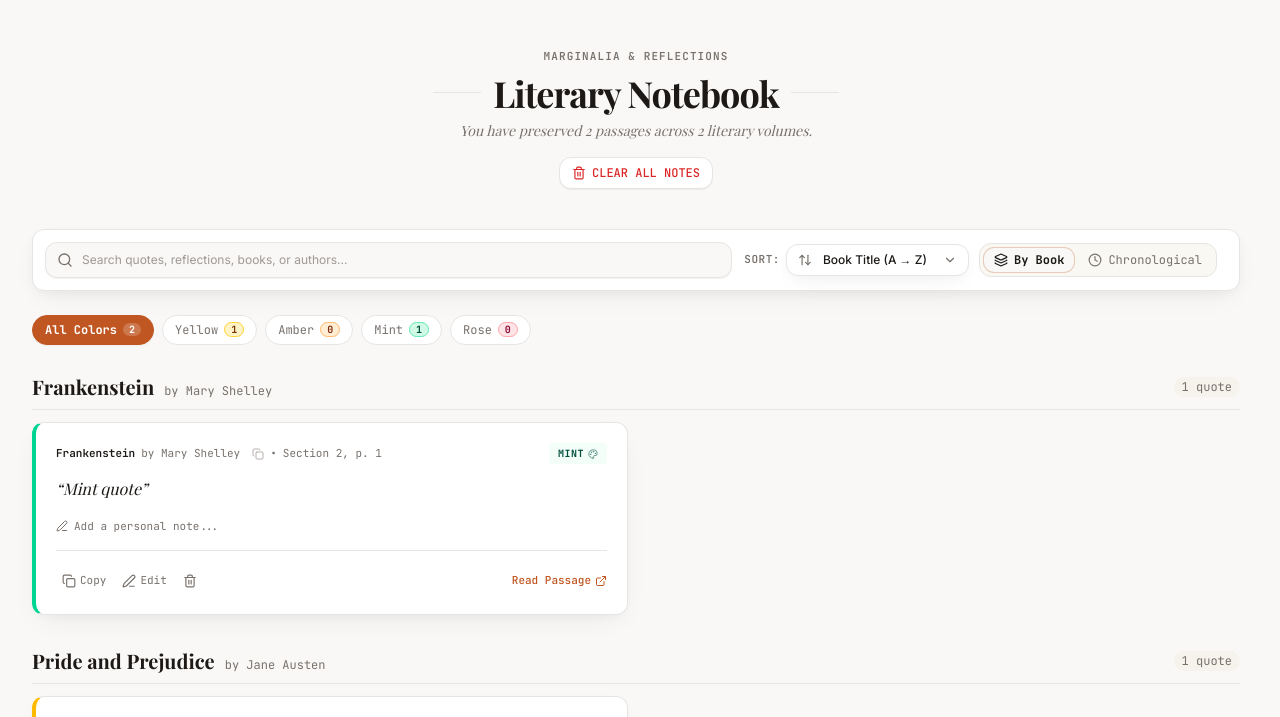
Test: NotebookView component › filters annotations by pastel color tabs
This screenshot has width=1280, height=717.
Note: Click Mint filter
What coordinates should you click on to do the following:
click the button with test id "notebook-filter-mint"
I would click on:
 (402, 330)
Its box is [361,314,442,344].
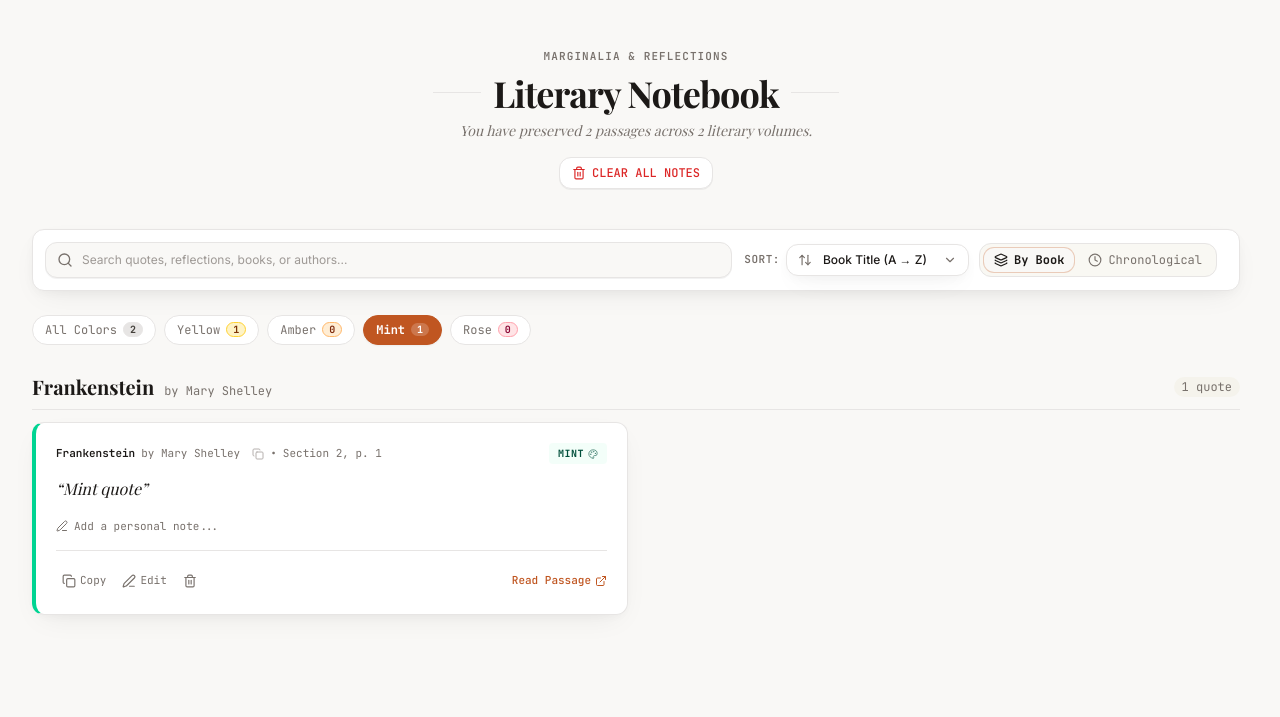
Expected: the text "“Mint quote”" is shown, [56,478,148,498]
Expected: the text "Yellow quote" is not shown
Note: Click All filter
What coordinates should you click on to do the following:
click the button with test id "notebook-filter-all"
I would click on:
 (94, 330)
Its box is [32,314,156,344].
(page scrolled)
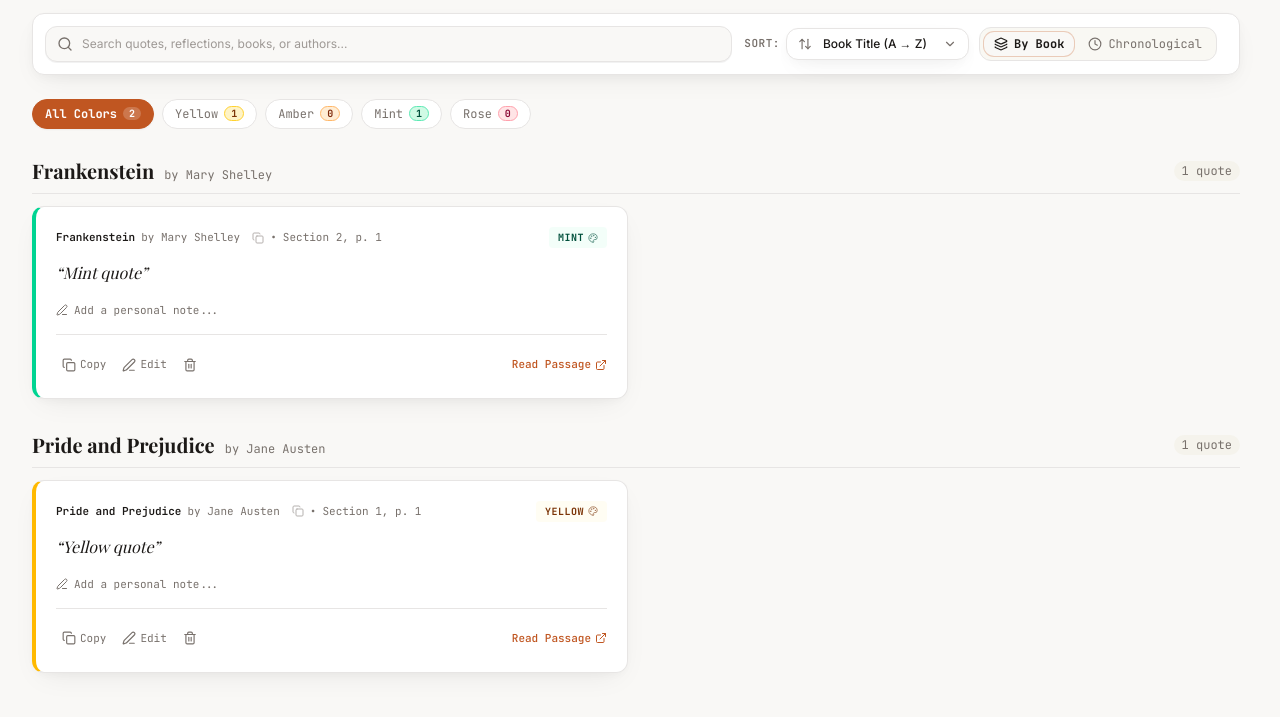
Expected: the text "“Mint quote”" is shown, [56,262,148,282]
Result: the text "“Yellow quote”" is shown at [56,535,160,556]
